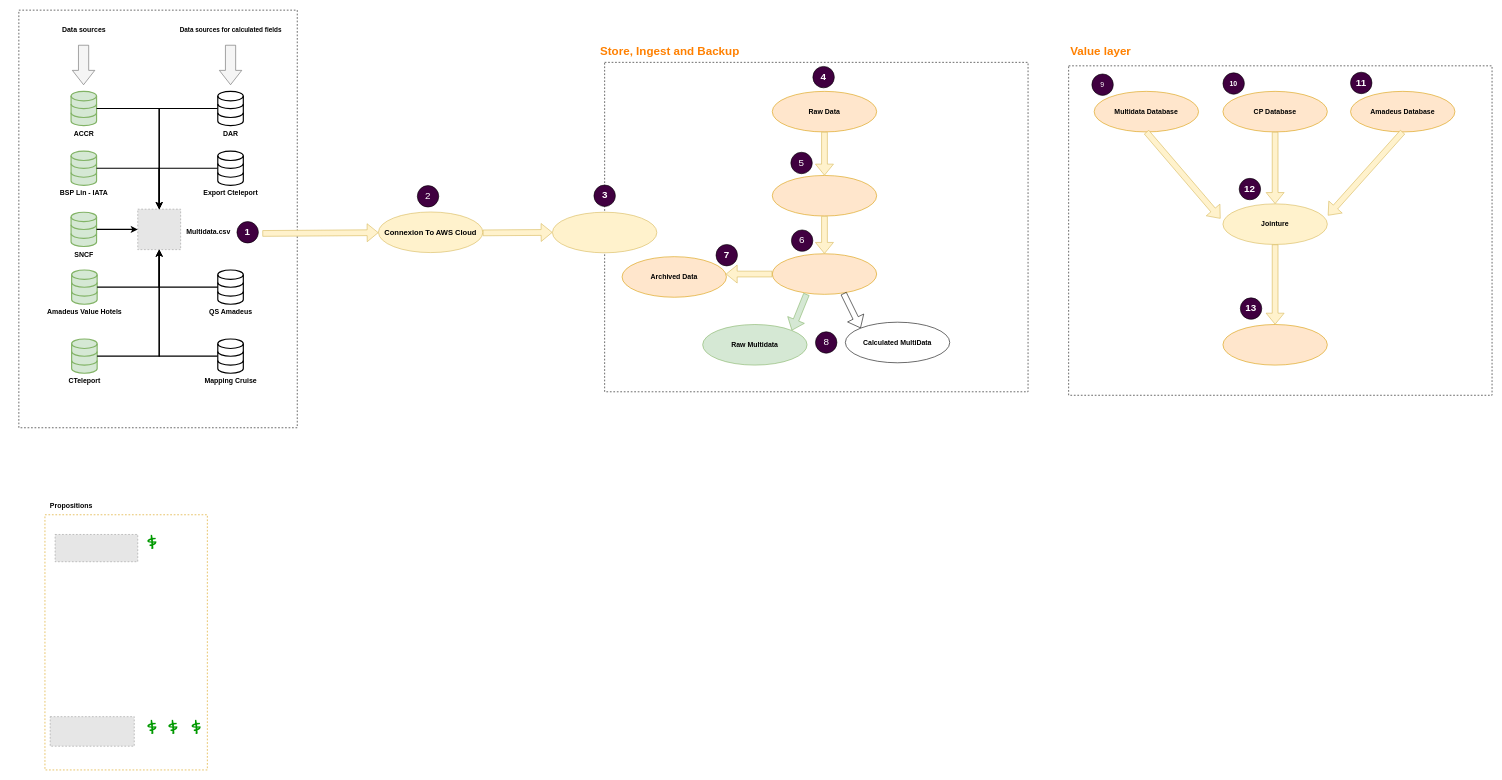
This 1502x780 diagram has some shape labels left out. Grey dashed boxes stand in for pictures. The shapes that lost their labels are listed below. From the top down, each one's box as (x1, y1, x2, y2) in pixels, then its label:
(772, 175, 877, 216): Tranform Data
(552, 212, 657, 253): Ingestion to DataLake
(772, 253, 877, 294): Processed Data
(1222, 324, 1327, 365): Multidata Finale Table
